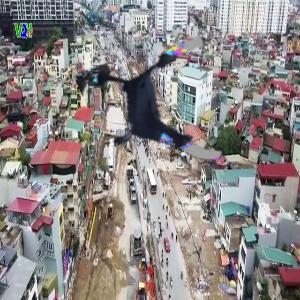drone: (95, 44, 232, 181)
